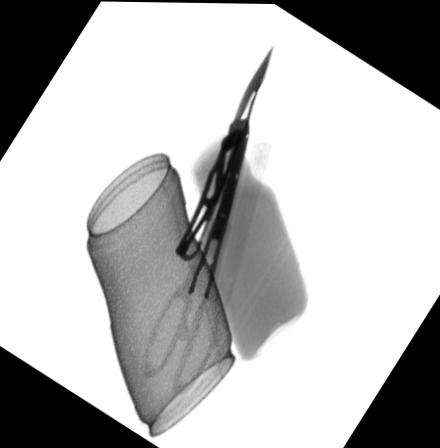Knife: (173, 45, 274, 262)
Scissors: (141, 117, 251, 394)
